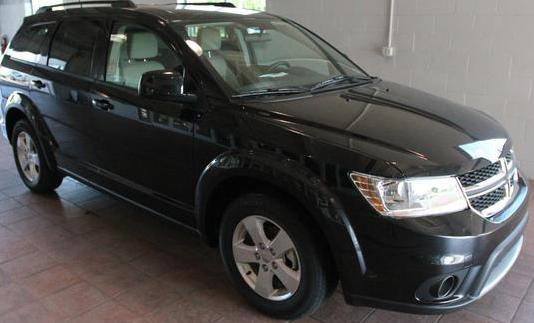front_view: (337, 102, 527, 298)
headlight: (341, 159, 482, 235)
side_glass: (43, 14, 208, 116)
